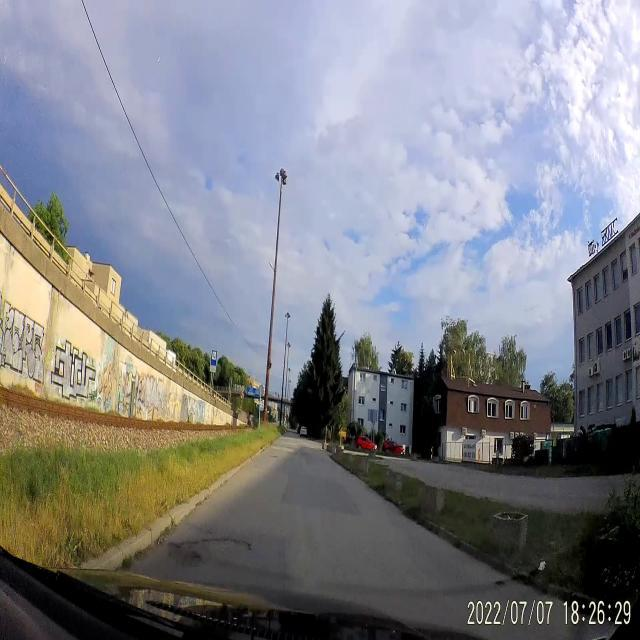Pothole: (164, 529, 253, 575)
